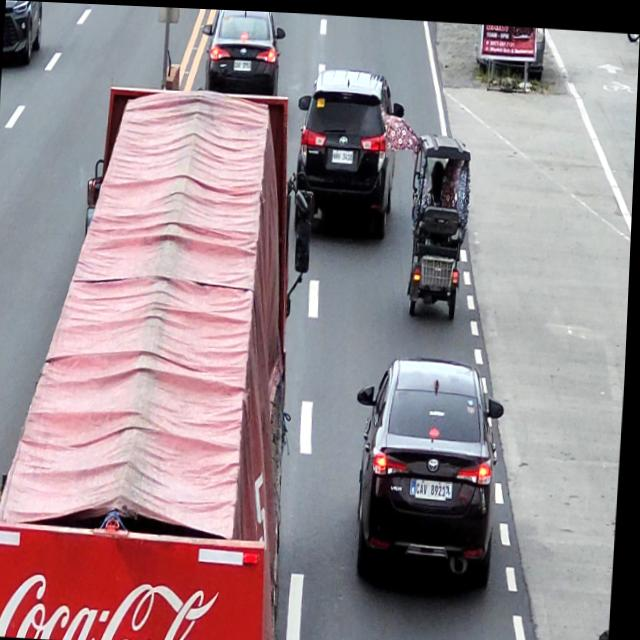Car: (351, 349, 509, 593), (291, 64, 406, 238), (199, 7, 286, 93), (2, 0, 44, 65)
E-bike: (406, 129, 473, 316)
License-Plate: (419, 474, 451, 496), (332, 145, 354, 161), (232, 57, 252, 68)
Truck: (0, 76, 320, 640)
